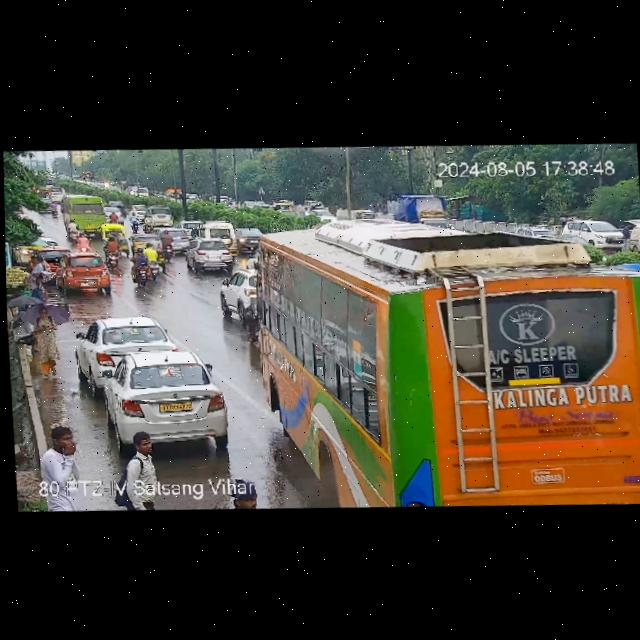bus: (252, 213, 640, 516), (60, 193, 110, 232)
car: (101, 348, 233, 448), (74, 313, 172, 378), (57, 255, 111, 293), (561, 215, 622, 246), (191, 220, 237, 261), (186, 237, 236, 274), (130, 232, 169, 276), (219, 268, 254, 314), (98, 220, 131, 258), (16, 235, 65, 258), (232, 224, 266, 254), (143, 204, 176, 228), (160, 229, 191, 251), (127, 203, 150, 222), (178, 219, 195, 237), (105, 205, 122, 221), (110, 198, 125, 213)
motorcycle: (128, 244, 151, 287), (103, 233, 121, 271), (159, 231, 176, 259), (76, 230, 93, 255), (128, 210, 141, 233), (68, 218, 79, 240), (47, 201, 60, 218), (109, 211, 116, 222)
person: (21, 298, 73, 383), (38, 422, 87, 482), (117, 426, 160, 483), (229, 473, 266, 509), (27, 253, 45, 284), (31, 274, 47, 294)
truck: (395, 193, 448, 229)
